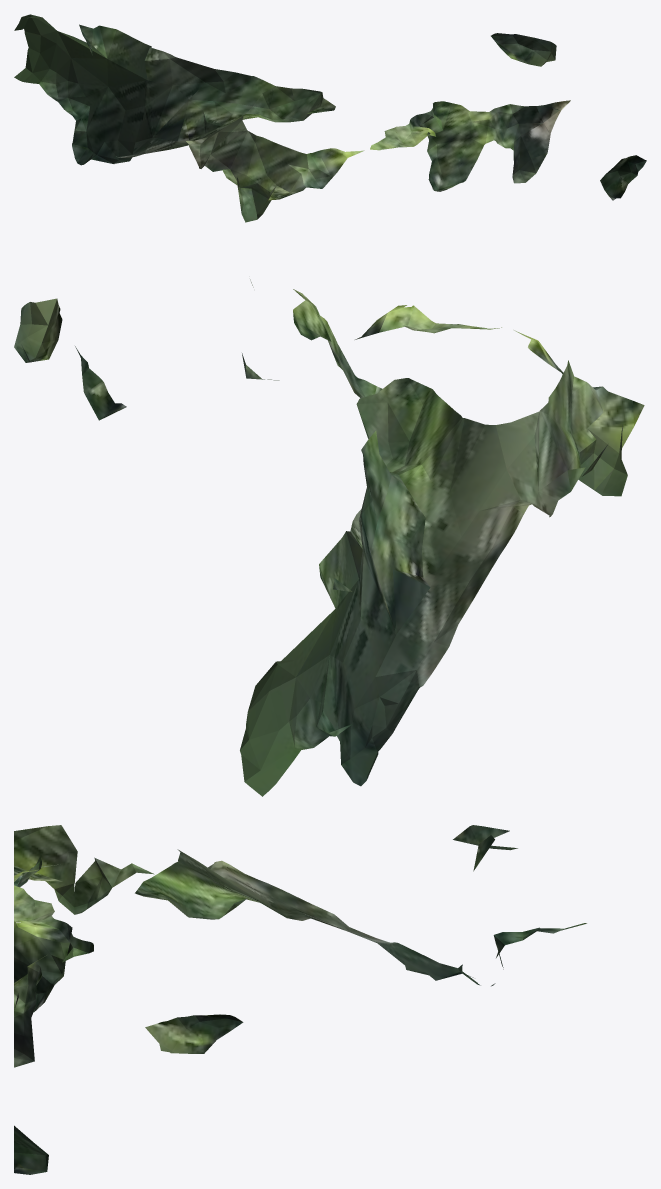
The picture shows the model from 3 angles, top to bottom: view 1: azimuth 30°, elevation 25°; view 2: azimuth 150°, elevation 25°; view 3: azimuth 270°, elevation 25°; orthographic projection. The views are drawn at different scales.
Bounding box in the file's own units: 22.22 × 7.36 × 26.11.
Materials: 1 (1 with a texture image).
